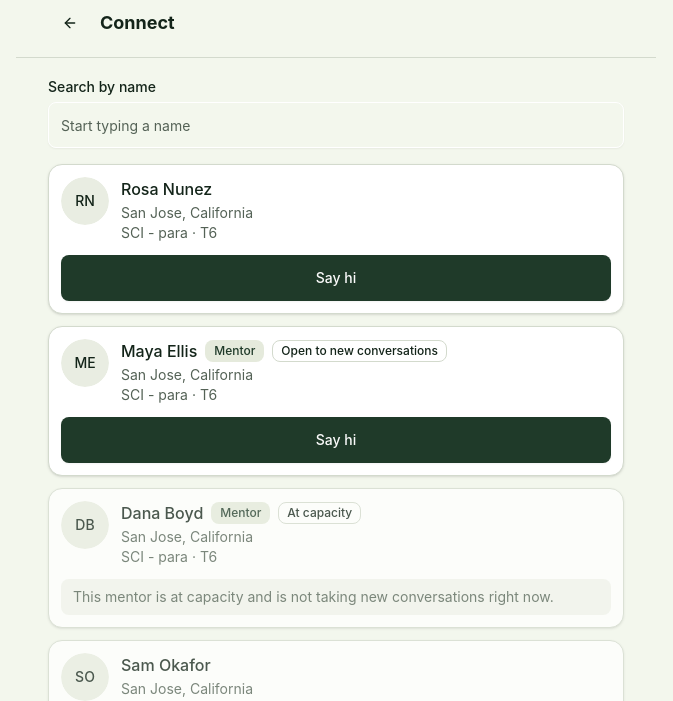
ConnectPage › filters the list by name
This screenshot has width=673, height=701.
Expected: the text "Rosa Nunez" is shown, [121,177,212,201]
Type "dana" into the search field labelled "Search by name" at (336, 125), box [48,102,624,148]
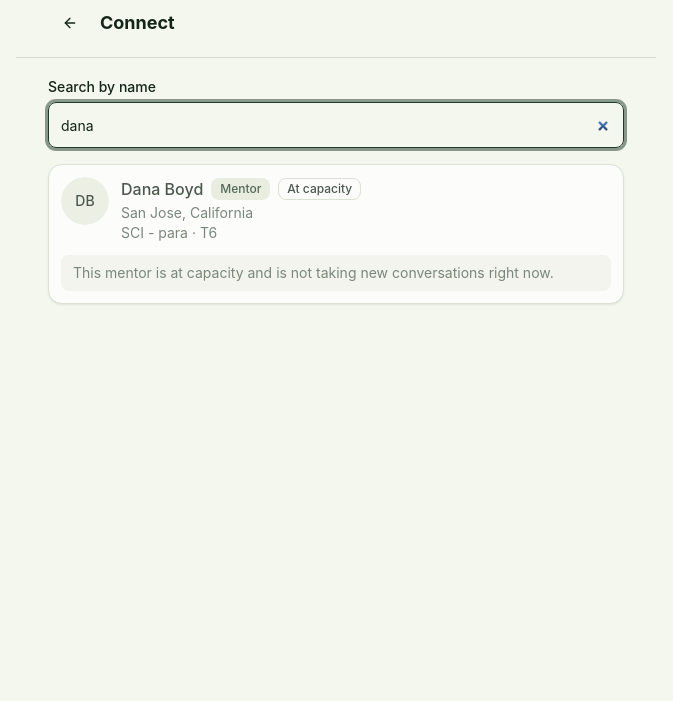
Expected: the text "Dana Boyd" is shown, [121,177,203,201]
Expected: the text "Rosa Nunez" is gone
